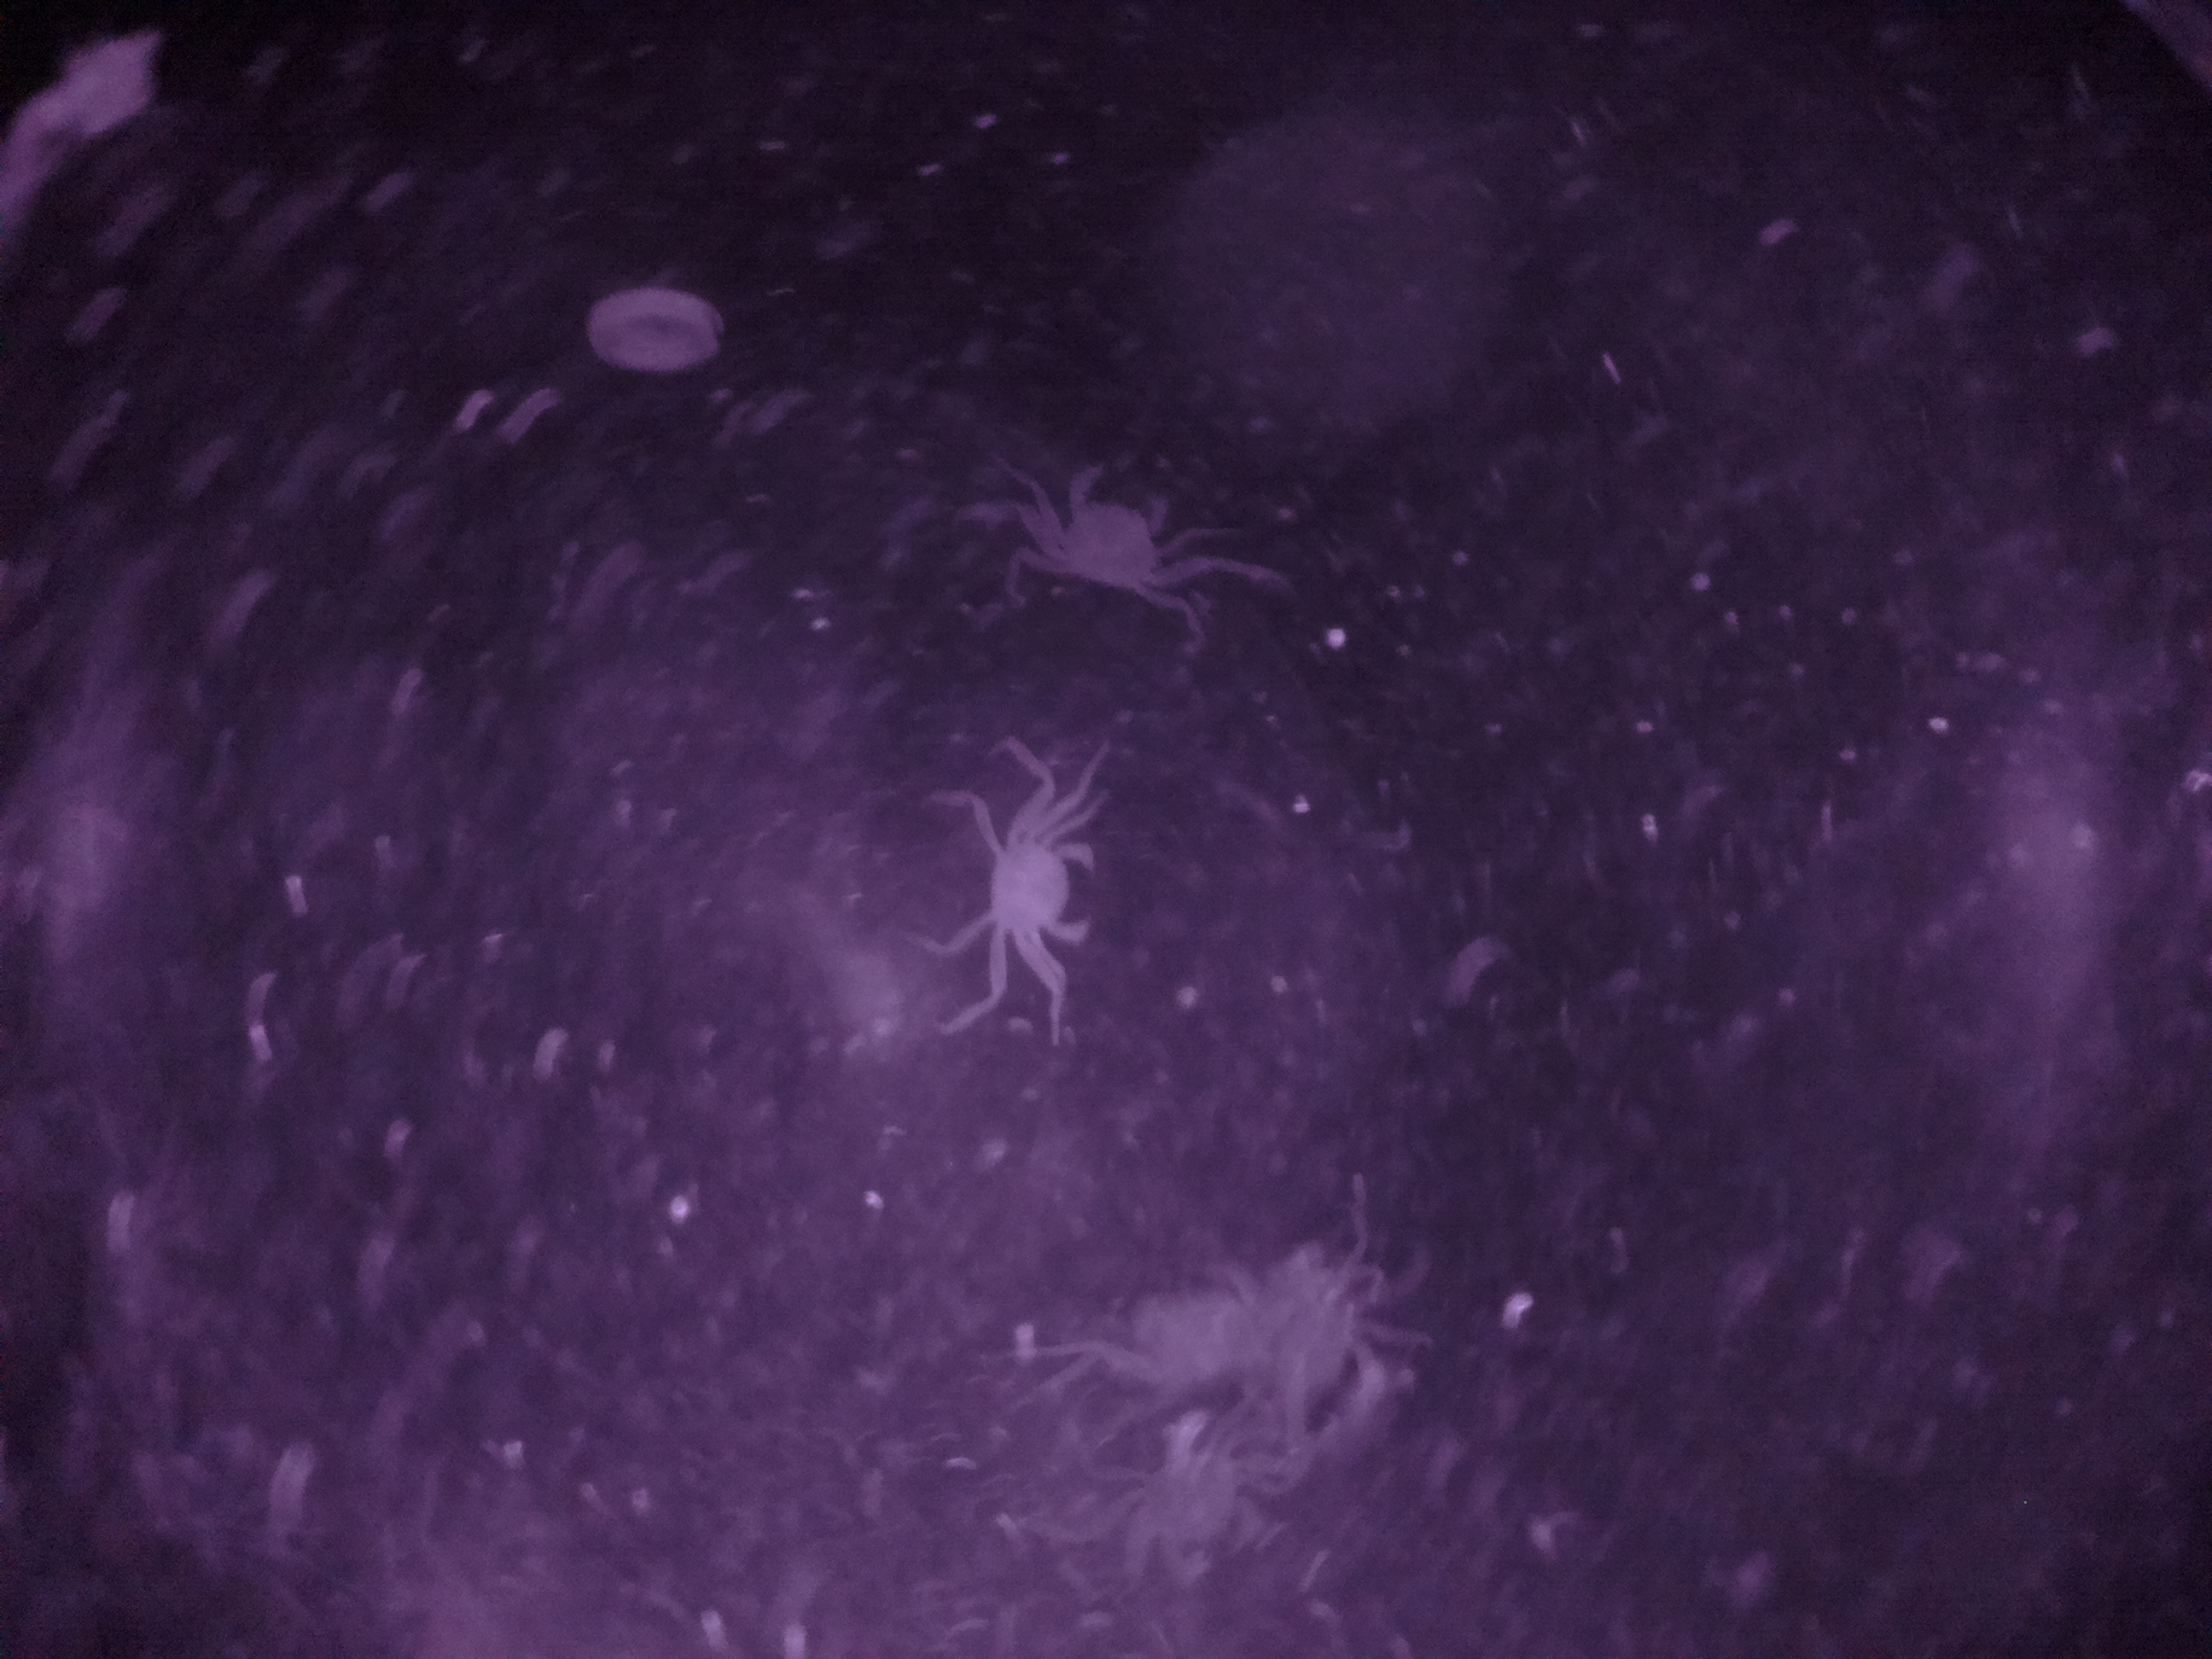Crab: (949, 767, 1118, 995), (1001, 443, 1216, 610)
